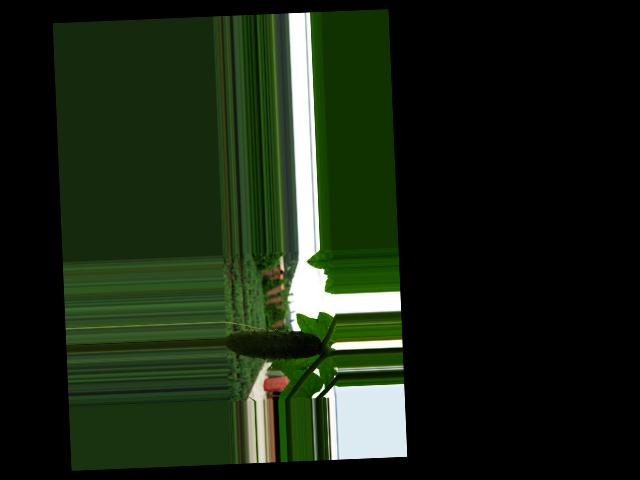cucumber: (224, 326, 321, 361)
